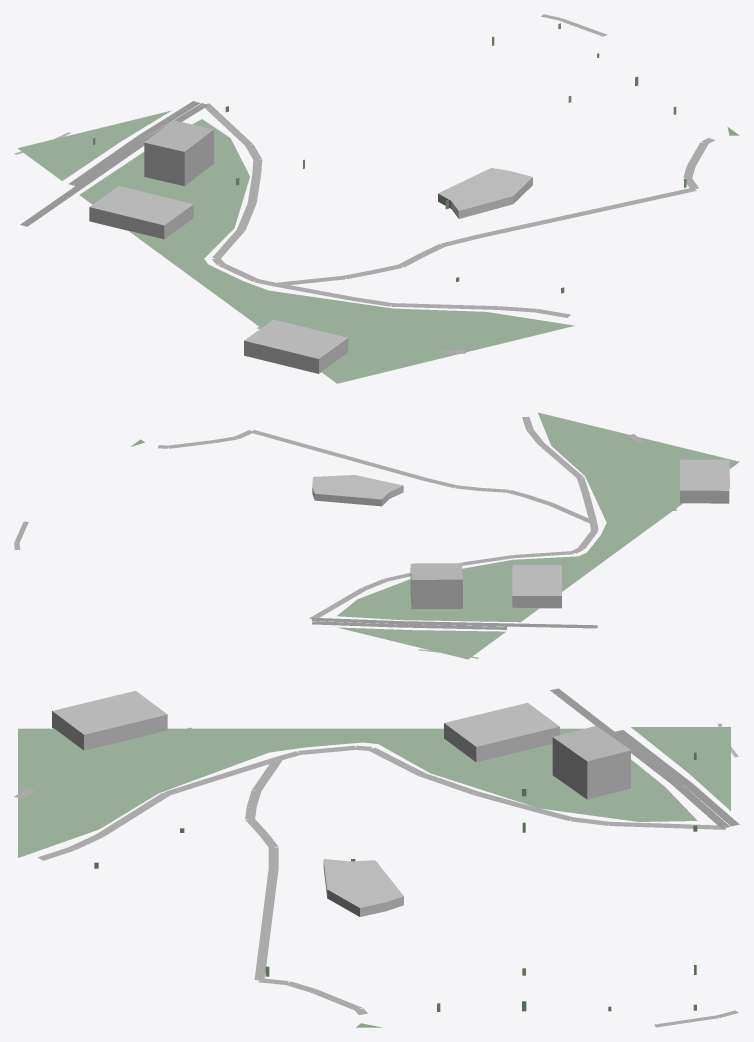
3 views of the same model, one above another, from view 1: azimuth 30°, elevation 25°; view 2: azimuth 150°, elevation 25°; view 3: azimuth 270°, elevation 25° (orthographic). The views are drawn at different scales.
Bounding box in the file's own units: 570 × 30.74 × 509.
